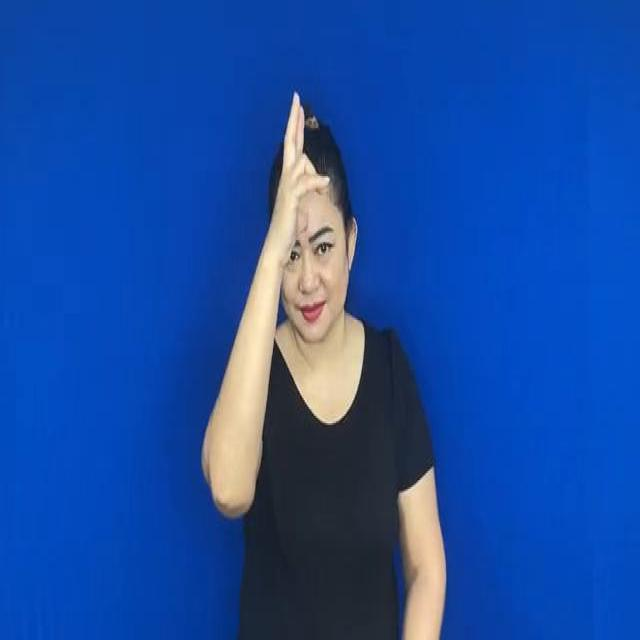chicken: (268, 75, 330, 257)
